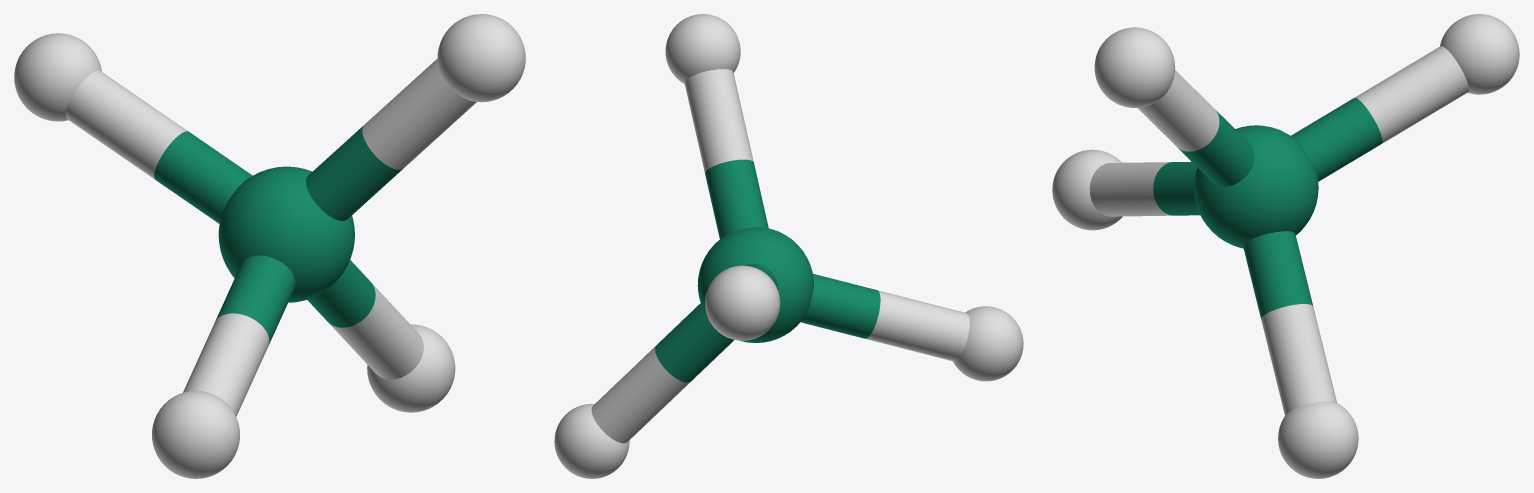
The model's file is Methane.glb.
3 views of the same model, side by side, from view 1: azimuth 30°, elevation 25°; view 2: azimuth 150°, elevation 25°; view 3: azimuth 270°, elevation 25° (orthographic). The views are drawn at different scales.
Bounding box in the file's own units: 1.79 × 1.94 × 1.91.
